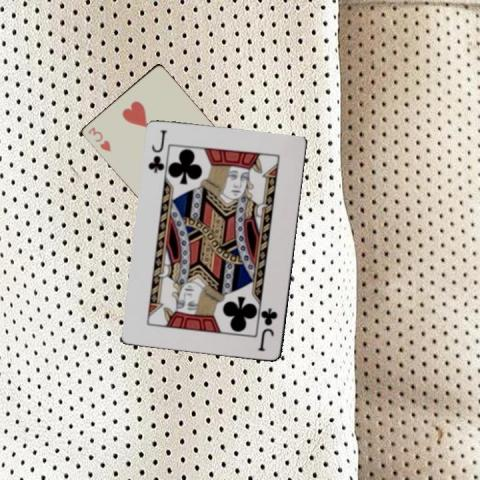3h: (85, 124, 112, 153)
Jc: (145, 127, 168, 175), (257, 305, 279, 354)
